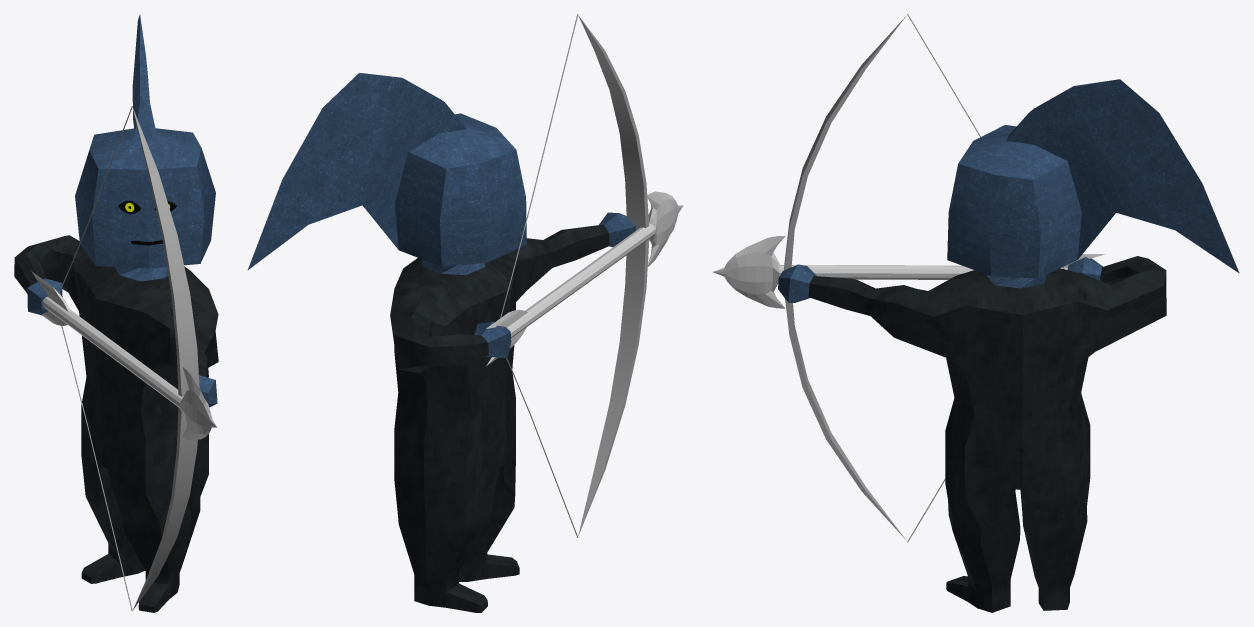
Rendered from enemyRanged.fbx.
3 views of the same model, side by side, from view 1: azimuth 30°, elevation 25°; view 2: azimuth 150°, elevation 25°; view 3: azimuth 270°, elevation 25° (orthographic). The views are drawn at different scales.
Visible parts, largest first — view 1: polySurface1, polySurface3, polySurface4; view 2: polySurface1, polySurface3, polySurface4; view 3: polySurface1, polySurface3, polySurface4.
Boxes of the visible parts, x1,y1,x2,y2 form: polySurface1: (14, 15, 218, 612); polySurface3: (42, 107, 199, 610); polySurface4: (31, 106, 216, 611); polySurface1: (248, 73, 635, 612); polySurface3: (507, 15, 655, 535); polySurface4: (486, 14, 683, 537); polySurface1: (778, 79, 1239, 612); polySurface3: (779, 16, 1067, 540); polySurface4: (713, 14, 1104, 542).
Size of the model in its own units: 7.39 by 20.99 by 18.11.
